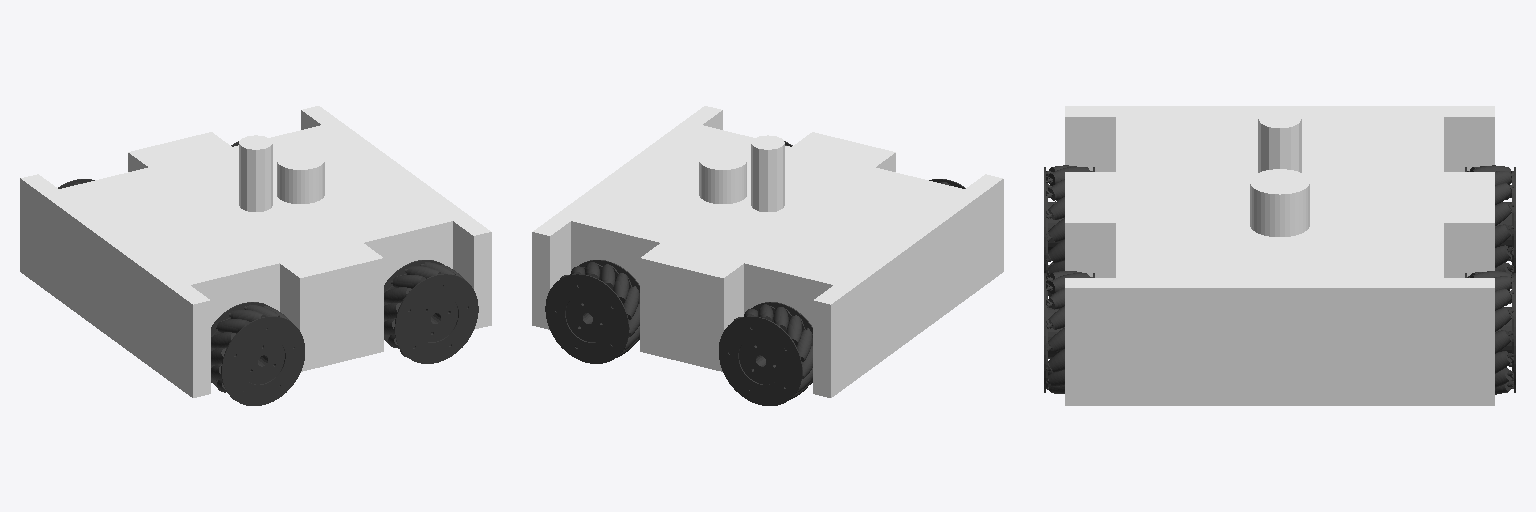
The robot description file, URDF, robot "123":
<?xml version="1.0" encoding="utf-8"?>
<!-- This URDF was automatically created by SolidWorks to URDF Exporter! Originally created by [author] ([email redacted]) 
     Commit Version: 1.6.0-4-g7f85cfe  Build Version: 1.6.7995.38578
     For more information, please see http://wiki.ros.org/sw_urdf_exporter -->
<robot
  name="123">
  <link
    name="base_link">
    <inertial>
      <origin
        xyz="1.83437767309336E-07 0 0.0757416972495107"
        rpy="0 0 0" />
      <mass
        value="57.5000842612895" />
      <inertia
        ixx="1.03705654741234"
        ixy="-3.83198534923437E-17"
        ixz="-1.16651163425904E-06"
        iyy="1.28399979970935"
        iyz="6.13264747923915E-18"
        izz="2.0953613948117" />
    </inertial>
    <visual>
      <origin
        xyz="0 0 0"
        rpy="0 0 0" />
      <geometry>
        <mesh
          filename="package://123/meshes/base_link.STL" />
      </geometry>
      <material
        name="">
        <color
          rgba="1 1 1 1" />
      </material>
    </visual>
    <collision>
      <origin
        xyz="0 0 0"
        rpy="0 0 0" />
      <geometry>
        <mesh
          filename="package://123/meshes/base_link.STL" />
      </geometry>
    </collision>
  </link>
  <link
    name="wheel_left_front_link">
    <inertial>
      <origin
        xyz="6.31155165409236E-07 -0.0278661932324391 -4.19737983663529E-07"
        rpy="0 0 0" />
      <mass
        value="0.523991092221911" />
      <inertia
        ixx="0.00024114925756414"
        ixy="4.27230049149884E-10"
        ixz="-1.41228888917532E-09"
        iyy="0.000363904083939778"
        iyz="-2.84109198874735E-10"
        izz="0.000241148073024117" />
    </inertial>
    <visual>
      <origin
        xyz="0 0 0"
        rpy="0 0 0" />
      <geometry>
        <mesh
          filename="package://123/meshes/wheel_left_front_link.STL" />
      </geometry>
      <material
        name="">
        <color
          rgba="0.298039215686275 0.298039215686275 0.298039215686275 1" />
      </material>
    </visual>
    <collision>
      <origin
        xyz="0 0 0"
        rpy="0 0 0" />
      <geometry>
        <mesh
          filename="package://123/meshes/wheel_left_front_link.STL" />
      </geometry>
    </collision>
  </link>
  <joint
    name="wheel_left_front_joint"
    type="continuous">
    <origin
      xyz="0.14503 0.27138 0.044"
      rpy="0 0 0" />
    <parent
      link="base_link" />
    <child
      link="wheel_left_front_link" />
    <axis
      xyz="0 1 0" />
  </joint>
  <link
    name="wheel_left_back_link">
    <inertial>
      <origin
        xyz="6.3115516695661E-07 0.513888118675135 -4.19737983831797E-07"
        rpy="0 0 0" />
      <mass
        value="0.523991092221911" />
      <inertia
        ixx="0.000241149257564134"
        ixy="4.27230048843647E-10"
        ixz="-1.4122888888445E-09"
        iyy="0.000363904083939771"
        iyz="-2.84109199604455E-10"
        izz="0.000241148073024111" />
    </inertial>
    <visual>
      <origin
        xyz="0 0 0"
        rpy="0 0 0" />
      <geometry>
        <mesh
          filename="package://123/meshes/wheel_left_back_link.STL" />
      </geometry>
      <material
        name="">
        <color
          rgba="0.298039215686275 0.298039215686275 0.298039215686275 1" />
      </material>
    </visual>
    <collision>
      <origin
        xyz="0 0 0"
        rpy="0 0 0" />
      <geometry>
        <mesh
          filename="package://123/meshes/wheel_left_back_link.STL" />
      </geometry>
    </collision>
  </link>
  <joint
    name="wheel_left_back_joint"
    type="continuous">
    <origin
      xyz="-0.14497 -0.27038 0.044"
      rpy="0 0 0" />
    <parent
      link="base_link" />
    <child
      link="wheel_left_back_link" />
    <axis
      xyz="0 1 0" />
  </joint>
  <link
    name="wheel_right_back_link">
    <inertial>
      <origin
        xyz="-7.43795663046831E-07 0.0268661932324407 -1.45960579909024E-07"
        rpy="0 0 0" />
      <mass
        value="0.523991092220049" />
      <inertia
        ixx="0.000241150083189761"
        ixy="5.03472139869789E-10"
        ixz="5.78718895051593E-10"
        iyy="0.000363904083939767"
        iyz="9.87893865683227E-11"
        izz="0.000241147247398468" />
    </inertial>
    <visual>
      <origin
        xyz="0 0 0"
        rpy="0 0 0" />
      <geometry>
        <mesh
          filename="package://123/meshes/wheel_right_back_link.STL" />
      </geometry>
      <material
        name="">
        <color
          rgba="0.298039215686275 0.298039215686275 0.298039215686275 1" />
      </material>
    </visual>
    <collision>
      <origin
        xyz="0 0 0"
        rpy="0 0 0" />
      <geometry>
        <mesh
          filename="package://123/meshes/wheel_right_back_link.STL" />
      </geometry>
    </collision>
  </link>
  <joint
    name="wheel_right_back_joint"
    type="continuous">
    <origin
      xyz="-0.14497 -0.27038 0.044"
      rpy="0 0 0" />
    <parent
      link="base_link" />
    <child
      link="wheel_right_back_link" />
    <axis
      xyz="0 -1 0" />
  </joint>
  <link
    name="wheel_right_front_link">
    <inertial>
      <origin
        xyz="-3.1483683016198E-07 0.0278661932324384 6.89500601967763E-07"
        rpy="0 0 0" />
      <mass
        value="0.523991092220466" />
      <inertia
        ixx="0.000241147662218502"
        ixy="2.13099554247107E-10"
        ixz="-1.15723086941908E-09"
        iyy="0.000363904083939788"
        iyz="-4.66725830247648E-10"
        izz="0.000241149668369752" />
    </inertial>
    <visual>
      <origin
        xyz="0 0 0"
        rpy="0 0 0" />
      <geometry>
        <mesh
          filename="package://123/meshes/wheel_right_front_link.STL" />
      </geometry>
      <material
        name="">
        <color
          rgba="0.298039215686275 0.298039215686275 0.298039215686275 1" />
      </material>
    </visual>
    <collision>
      <origin
        xyz="0 0 0"
        rpy="0 0 0" />
      <geometry>
        <mesh
          filename="package://123/meshes/wheel_right_front_link.STL" />
      </geometry>
    </collision>
  </link>
  <joint
    name="wheel_right_front_joint"
    type="continuous">
    <origin
      xyz="0.14503 -0.27138 0.044"
      rpy="0 0 0" />
    <parent
      link="base_link" />
    <child
      link="wheel_right_front_link" />
    <axis
      xyz="0 -1 0" />
  </joint>
  <link
    name="radar_link">
    <inertial>
      <origin
        xyz="0 0 0.0275"
        rpy="0 0 0" />
      <mass
        value="0.211664805035612" />
      <inertia
        ixx="0.000118179516144884"
        ixy="0"
        ixz="6.92677814647949E-37"
        iyy="0.000118179516144884"
        iyz="1.10220644459236E-36"
        izz="0.000129644693084313" />
    </inertial>
    <visual>
      <origin
        xyz="0 0 0"
        rpy="0 0 0" />
      <geometry>
        <mesh
          filename="package://123/meshes/radar_link.STL" />
      </geometry>
      <material
        name="">
        <color
          rgba="1 1 1 1" />
      </material>
    </visual>
    <collision>
      <origin
        xyz="0 0 0"
        rpy="0 0 0" />
      <geometry>
        <mesh
          filename="package://123/meshes/radar_link.STL" />
      </geometry>
    </collision>
  </link>
  <joint
    name="radar_joint"
    type="continuous">
    <origin
      xyz="0.0750275357424189 0 0.15"
      rpy="0 0 0" />
    <parent
      link="base_link" />
    <child
      link="radar_link" />
    <axis
      xyz="0 0 -1" />
  </joint>
</robot>

--- Facts derived from the render (not from the file) ---
The picture shows the robot from 3 angles, left to right: view 1: azimuth 30°, elevation 25°; view 2: azimuth 150°, elevation 25°; view 3: azimuth 270°, elevation 25°; orthographic projection.
Robot: 123 — 6 links, 5 joints (5 continuous); root link base_link; default pose: every joint at zero.
Links seen in each view (by area): view 1: base_link, wheel_right_front_link, wheel_right_back_link, radar_link; view 2: base_link, wheel_left_front_link, wheel_left_back_link, radar_link; view 3: base_link, radar_link, wheel_right_front_link, wheel_left_front_link, wheel_right_back_link, wheel_left_back_link.
Boxes of the visible links, bbox=[...] form: base_link: bbox=[20, 106, 491, 397]; wheel_right_front_link: bbox=[384, 260, 478, 363]; wheel_right_back_link: bbox=[211, 302, 304, 405]; radar_link: bbox=[277, 150, 324, 203]; base_link: bbox=[532, 106, 1003, 397]; wheel_left_front_link: bbox=[545, 260, 639, 363]; wheel_left_back_link: bbox=[719, 302, 812, 405]; radar_link: bbox=[699, 150, 746, 203]; base_link: bbox=[1065, 106, 1494, 405]; radar_link: bbox=[1250, 169, 1309, 236]; wheel_right_front_link: bbox=[1044, 271, 1094, 393]; wheel_left_front_link: bbox=[1465, 271, 1515, 394]; wheel_right_back_link: bbox=[1044, 165, 1094, 276]; wheel_left_back_link: bbox=[1465, 165, 1515, 276].
Size in the robot's own frame: 0.5 by 0.5468 by 0.2782 metres.
Meshes: 6 distinct files referenced, 6 mesh visuals loaded (6 binary STL).